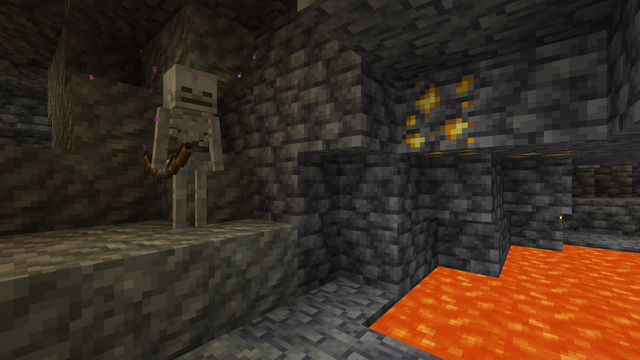squelettes: (156, 61, 222, 232)
